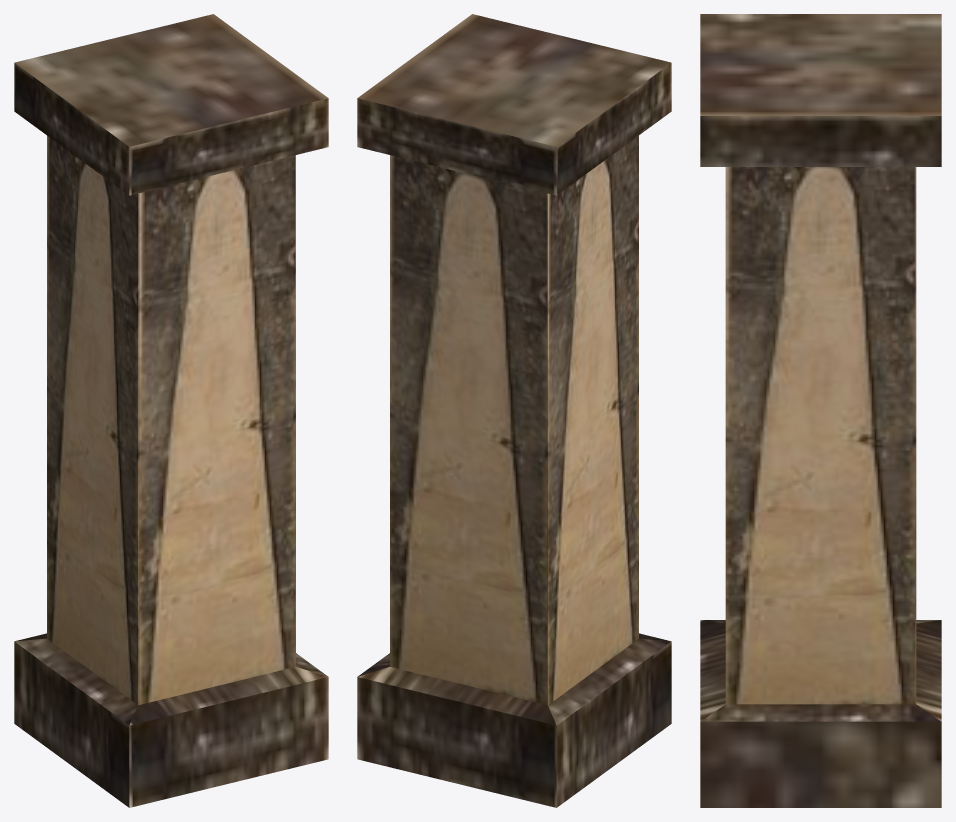
Rendered from Pillar.fbx.
The picture shows the model from 3 angles, left to right: view 1: azimuth 30°, elevation 25°; view 2: azimuth 150°, elevation 25°; view 3: azimuth 270°, elevation 25°; orthographic projection. The views are drawn at different scales.
Visible parts, largest first — view 1: Pillar; view 2: Pillar; view 3: Pillar.
Part boxes in pixels (x1,y1,x2,y2): Pillar: (14,14,328,807); Pillar: (357,14,671,807); Pillar: (700,14,941,807).
Size of the model in its own units: 126 by 400 by 126.
1 material, 1 textured.
